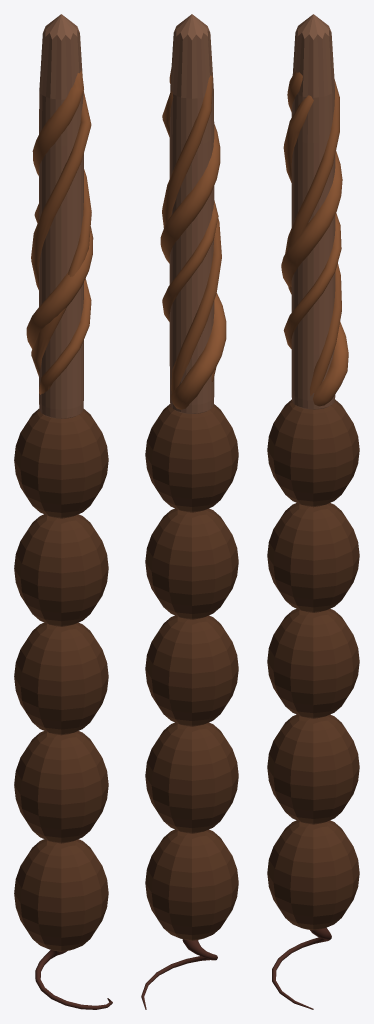
File: Wand 279.glb
3 views of the same model, side by side, from view 1: azimuth 30°, elevation 25°; view 2: azimuth 210°, elevation 25°; view 3: azimuth 270°, elevation 25° (orthographic). The views are drawn at different scales.
Parts seen in each view (by area): view 1: GeneratedWand; view 2: GeneratedWand; view 3: GeneratedWand.
Boxes of the visible parts, x1=… form: GeneratedWand: x1=14, y1=14, x2=112, y2=1009; GeneratedWand: x1=141, y1=14, x2=238, y2=1009; GeneratedWand: x1=267, y1=14, x2=359, y2=1009.
Bounding box in the file's own units: 0.0481 × 0.5218 × 0.0449.
